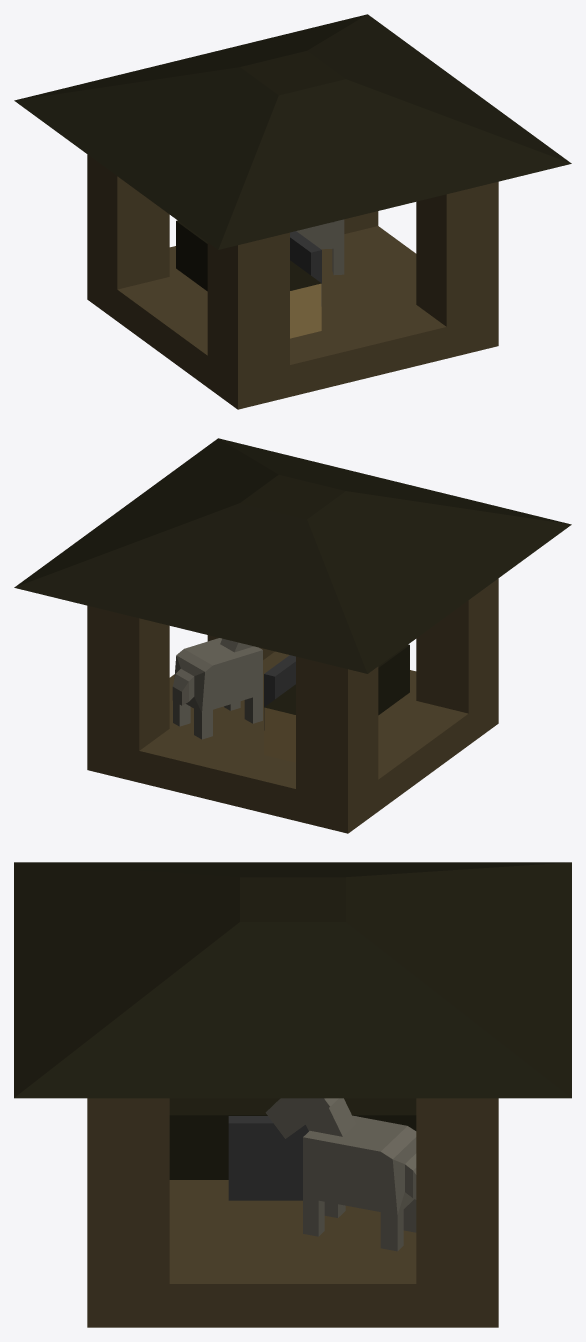
File: Sawmill.fbx
The picture shows the model from 3 angles, top to bottom: view 1: azimuth 30°, elevation 25°; view 2: azimuth 150°, elevation 25°; view 3: azimuth 270°, elevation 25°; orthographic projection. The views are drawn at different scales.
Visible parts, largest first — view 1: sawmill; view 2: sawmill; view 3: sawmill.
Boxes of the visible parts, box(x1,y1,x2,y2) form: sawmill: box(14, 14, 571, 409); sawmill: box(14, 438, 571, 833); sawmill: box(14, 862, 571, 1327).
Size of the model in its own units: 271 by 183 by 271.
